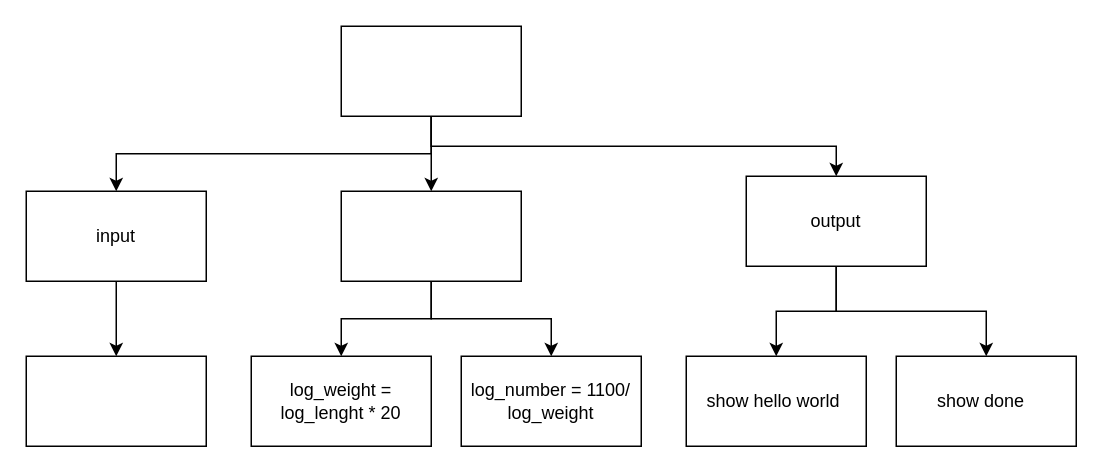
Image size: 1103x473. Some labels were removed from this diagram. The box of each missing label's shape, as (x1, y1, x2, y2) in pixels:
get log_weight: (25, 355, 206, 446)
log number: (340, 25, 521, 116)
process: (340, 190, 521, 281)
